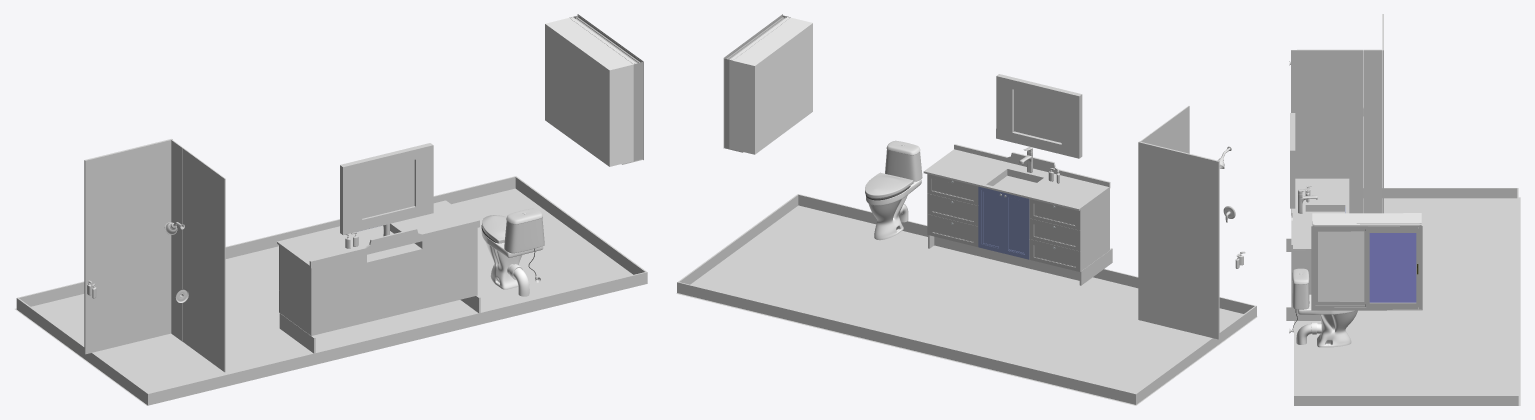
File: bathroom.fbx
The picture shows the model from 3 angles, left to right: view 1: azimuth 30°, elevation 25°; view 2: azimuth 150°, elevation 25°; view 3: azimuth 270°, elevation 25°; orthographic projection. The views are drawn at different scales.
Parts seen in each view (by area): view 1: Floor, Plane.003, Baseboard, CTRL_Hole.001, Plane.002, Cabinet3, Countertop1, Plane, Cabinet1, Cabinet2, Plane.001, Plane.004 (+5 smaller); view 2: Floor, Plane.003, Baseboard, CTRL_Hole.001, Countertop1, Plane, Plane.001, Baseboard1, Cabinet3, Cabinet2_Door_R, Cabinet2_Door_L, Bowl (+10 smaller); view 3: Floor, Plane.002, CTRL_Hole.001, Baseboard, Window.R.001, Plane.004, Countertop1, WindowFrame.001, Bowl, Window.L.001, Plane, Cabinet1 (+5 smaller).
Boxes of the visible parts, x1,y1,x2,y2 form: Floor: [15, 188, 632, 405]; Plane.003: [84, 139, 172, 354]; Baseboard: [16, 176, 647, 405]; CTRL_Hole.001: [545, 17, 636, 166]; Plane.002: [182, 148, 225, 372]; Cabinet3: [280, 246, 366, 335]; Countertop1: [277, 200, 479, 268]; Plane: [340, 143, 433, 235]; Cabinet1: [414, 228, 477, 308]; Cabinet2: [367, 243, 422, 322]; Plane.001: [362, 160, 414, 218]; Plane.004: [171, 140, 182, 341]; Floor: [676, 205, 1257, 405]; Plane.003: [1138, 141, 1219, 339]; Baseboard: [677, 194, 1256, 404]; CTRL_Hole.001: [729, 17, 812, 154]; Countertop1: [923, 144, 1110, 210]; Plane: [996, 74, 1082, 158]; Plane.001: [1014, 89, 1061, 142]; Baseboard1: [928, 235, 1112, 285]; Cabinet3: [1081, 189, 1109, 271]; Cabinet2_Door_R: [1003, 193, 1029, 259]; Cabinet2_Door_L: [978, 186, 1003, 253]; Bowl: [866, 179, 921, 240]; Floor: [1295, 197, 1520, 405]; Plane.002: [1291, 49, 1362, 215]; CTRL_Hole.001: [1312, 213, 1421, 301]; Baseboard: [1294, 188, 1518, 405]; Window.R.001: [1365, 228, 1418, 306]; Plane.004: [1363, 49, 1381, 213]; Countertop1: [1291, 178, 1349, 250]; WindowFrame.001: [1311, 223, 1422, 310]; Bowl: [1297, 294, 1357, 347]; Window.L.001: [1315, 229, 1365, 305]; Plane: [1290, 113, 1295, 208]; Cabinet1: [1291, 250, 1311, 307].
Size of the model in its own units: 571 by 221 by 257.
